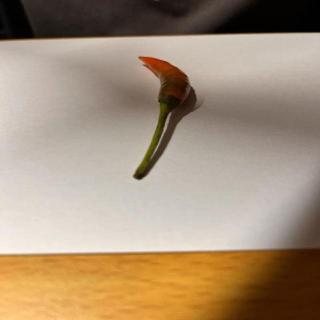Cabai Merah: (133, 56, 191, 181)
